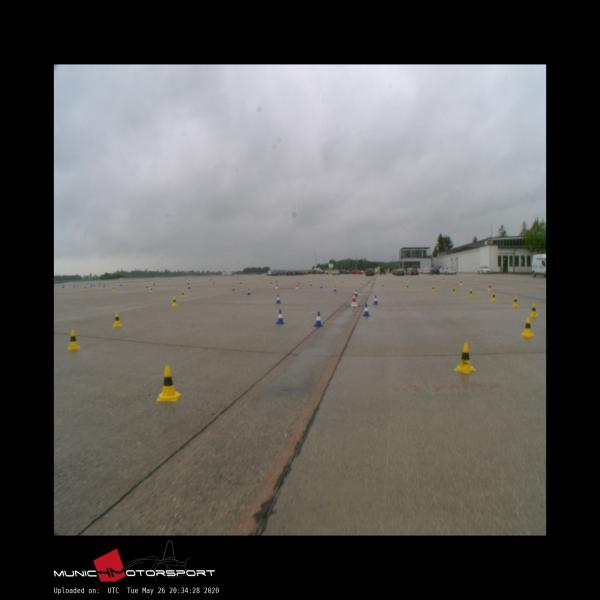blue_cone: (313, 312, 322, 326), (276, 309, 284, 323), (362, 304, 370, 316), (276, 295, 281, 303), (373, 296, 378, 304), (247, 288, 251, 295), (355, 290, 358, 296), (232, 286, 235, 291)
yellow_cone: (156, 364, 180, 401), (455, 343, 476, 373), (67, 328, 81, 350), (521, 317, 534, 336), (528, 302, 537, 317), (113, 311, 121, 326), (512, 295, 518, 306), (172, 296, 178, 306), (180, 290, 185, 298), (492, 292, 496, 301), (469, 288, 473, 297), (452, 287, 456, 294), (150, 286, 154, 292), (432, 285, 435, 292)
